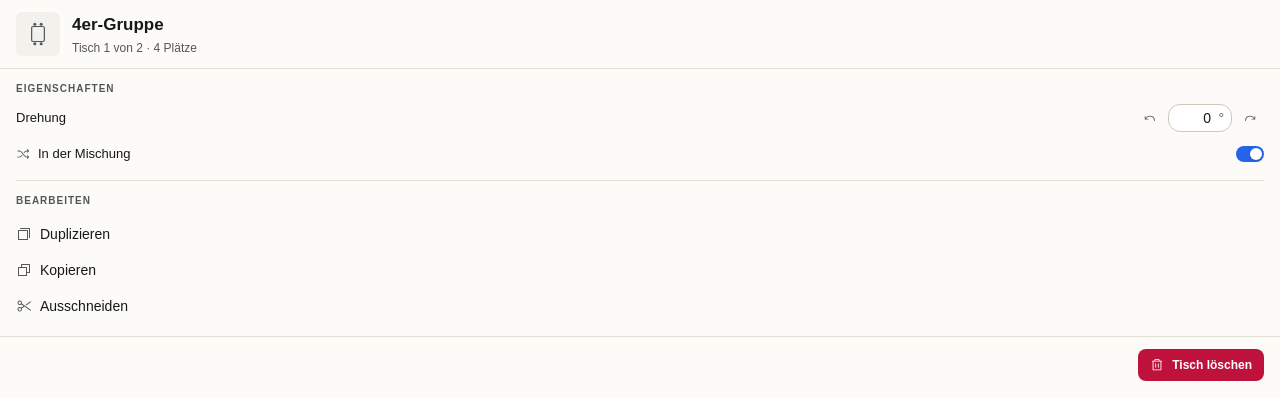
Test case: SceneInspector › drops the draft on Escape and ignores what is not a number
Replace the text in the field named "Drehung in Grad" with "90": (1200, 118) [1168,104,1232,132]
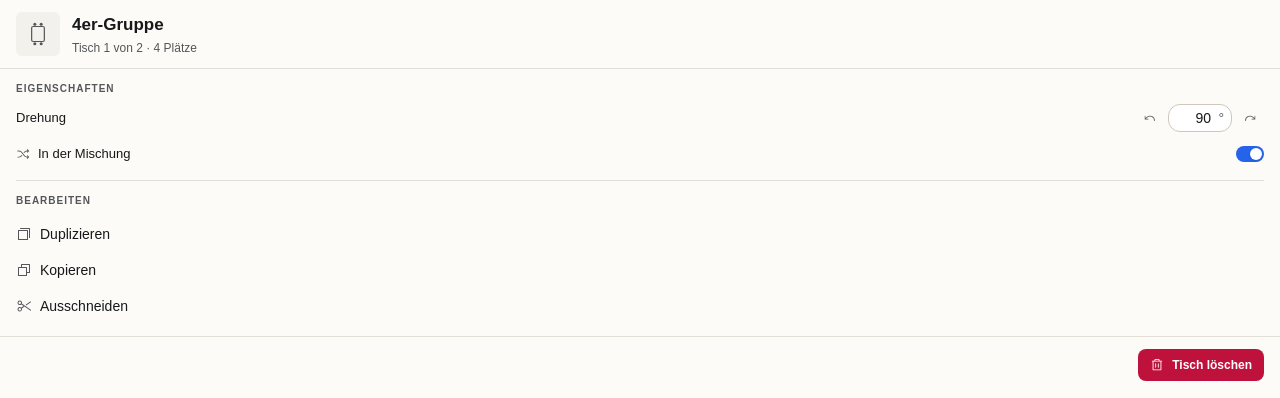
Press Escape in the field named "Drehung in Grad", box [1168,104,1232,132]
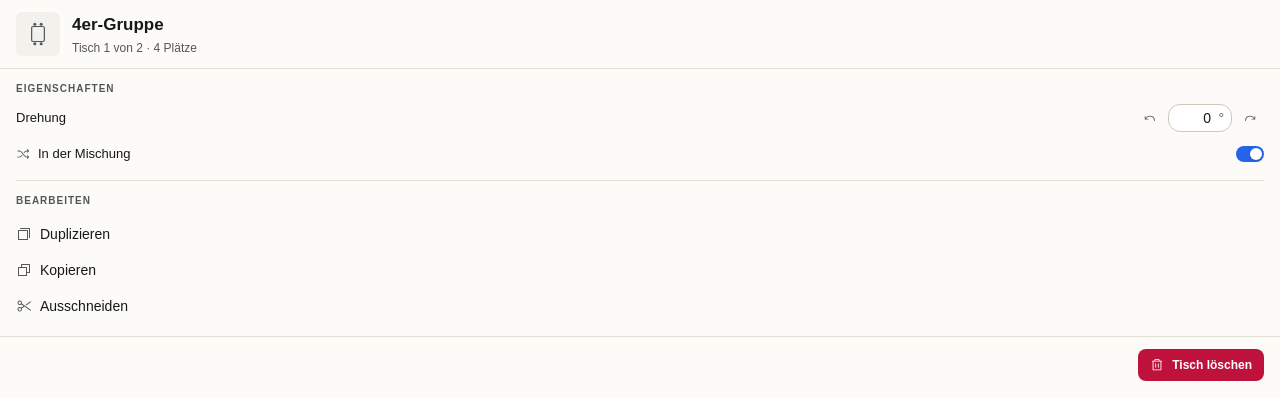
Now the field named "Drehung in Grad" holds "0"
Replace the text in the field named "Drehung in Grad" with "quer": (1200, 118) [1168,104,1232,132]
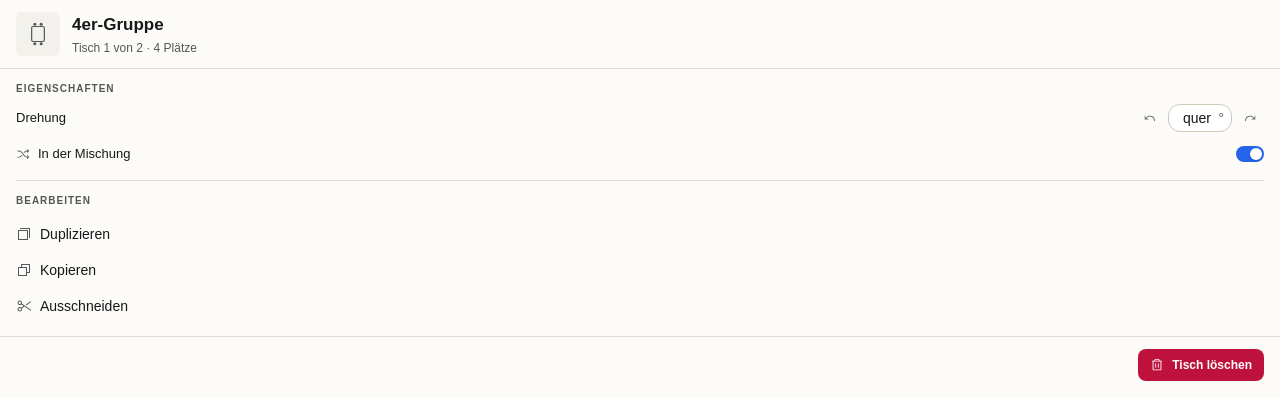
Leave the field named "Drehung in Grad", box [1168,104,1232,132]
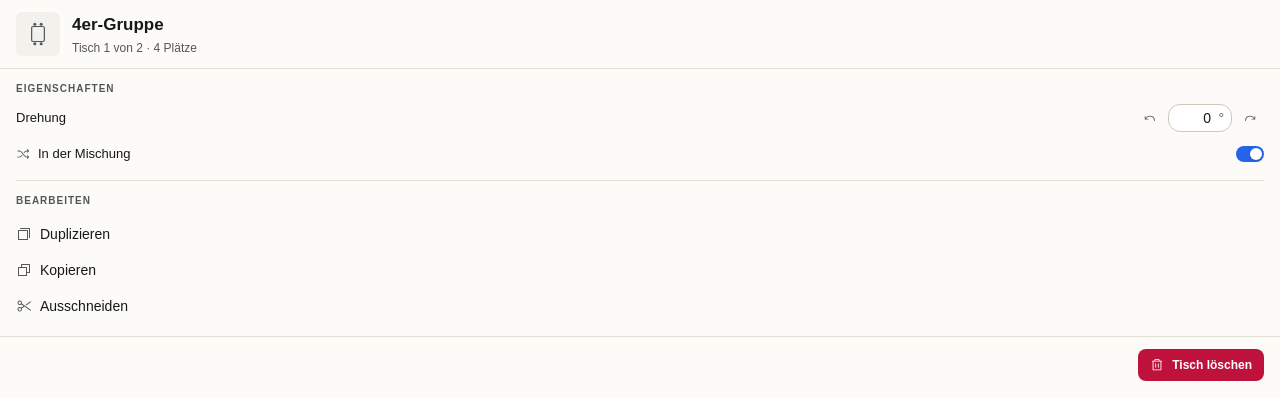
Now the field named "Drehung in Grad" holds "0", box [1168,104,1232,132]
